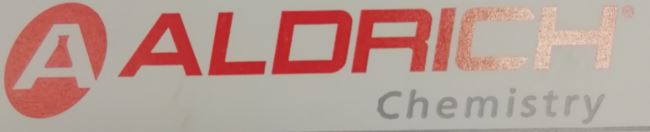SigmaAldrich: (3, 2, 636, 126)
